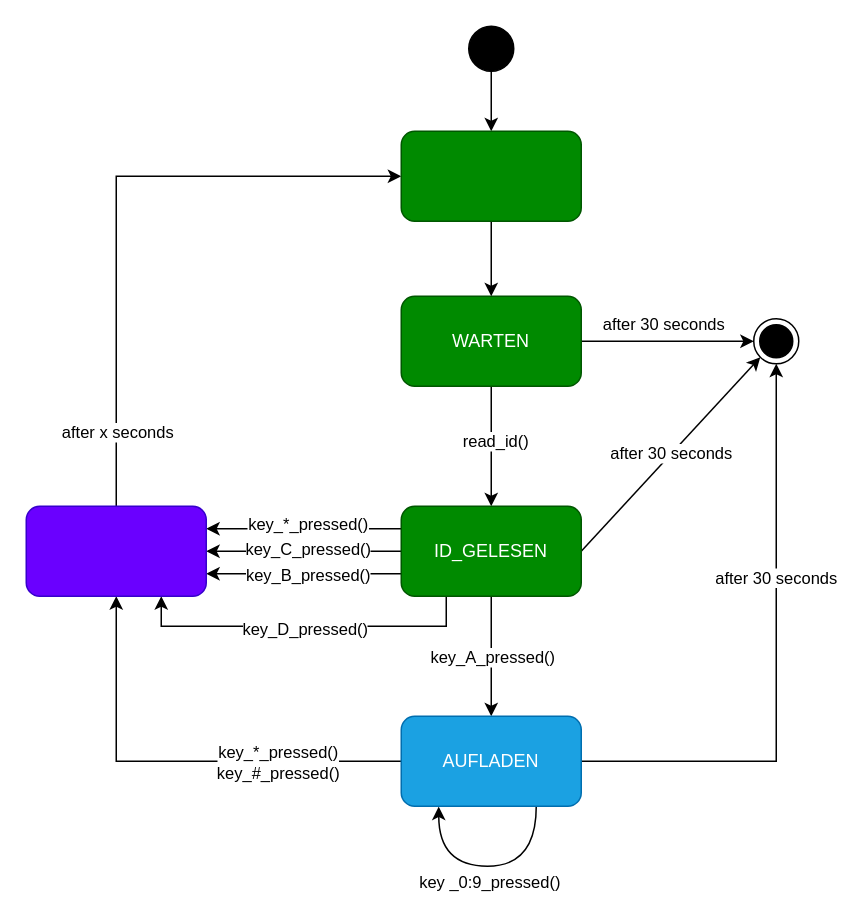
The diagram is 863 pixels wide and 918 high, and some of its shapes have lost their labels. The centre of each missing label's shape, as x and y in pixels:
"AUSGABE" goes at (115,550).
"CHIP_AUFLEGEN" goes at (490,175).
